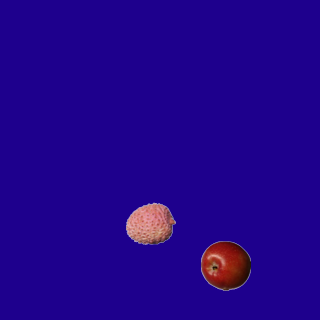Apple Braeburn: (200, 240, 250, 290)
Lychee: (125, 198, 175, 248)
